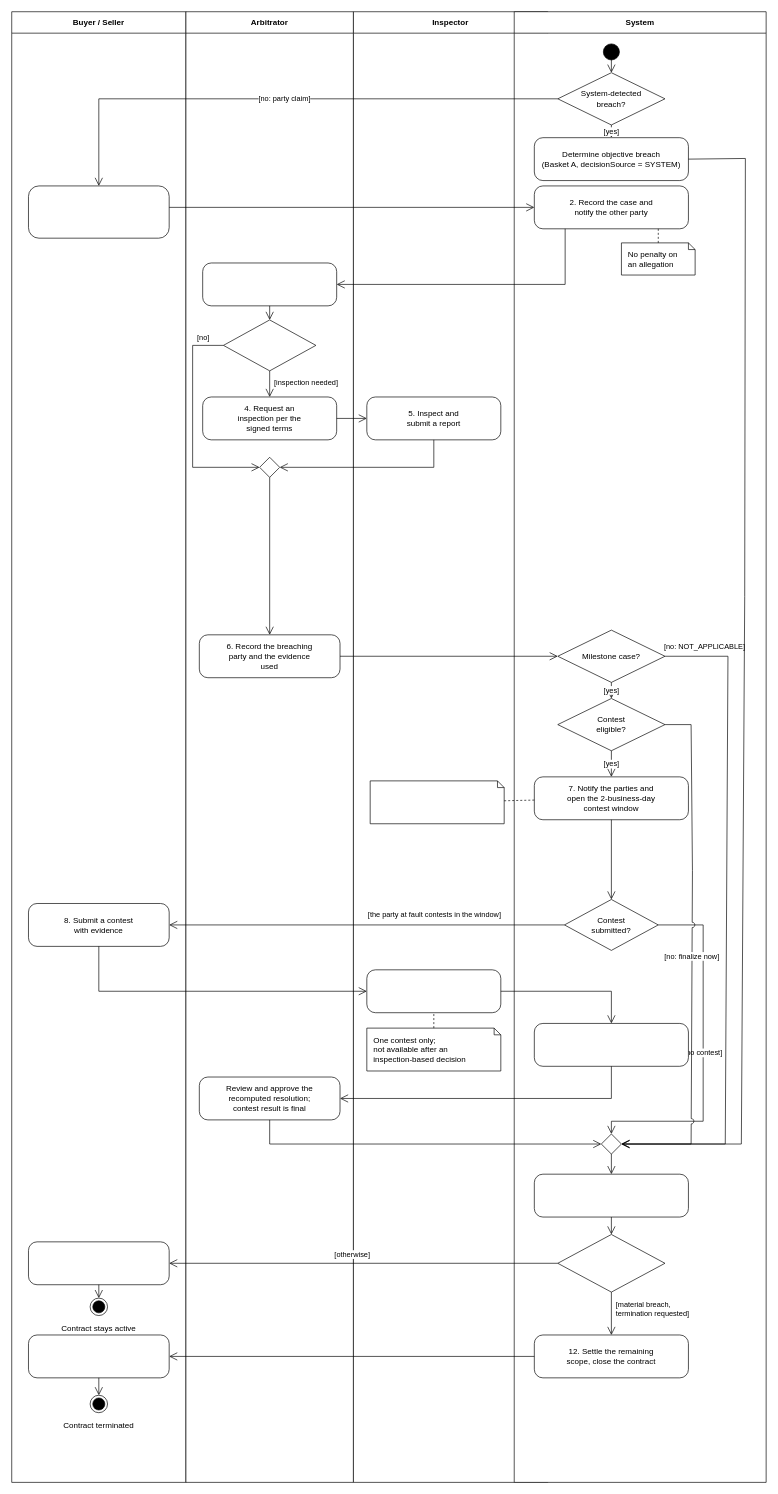
Some shapes in this 778 by 1494 pixel diagram are drawn without their labels. Each missing label, with the centre of its shape:
"1. Report a breach or claim force majeure" belongs at point 98,211.
"10. Finalize decision; publish remedy.finalized" belongs at point 611,1195.
"11. View final resolution and active contract status" belongs at point 98,1263.
"13. View contract termination result" belongs at point 98,1356.
"3. Review the evidence against the signed terms" belongs at point 269,284.
"9. Level 1.5 conducts the contest inspection; submit the report" belongs at point 433,991.
"Inspection needed?" belongs at point 269,345.
"Penalty, forfeiture and lock wait; no-fault refunds run at once" belongs at point 437,802.
"Recompute resolution; supersede pending decision" belongs at point 611,1044.
"Termination conditions met?" belongs at point 611,1263.
